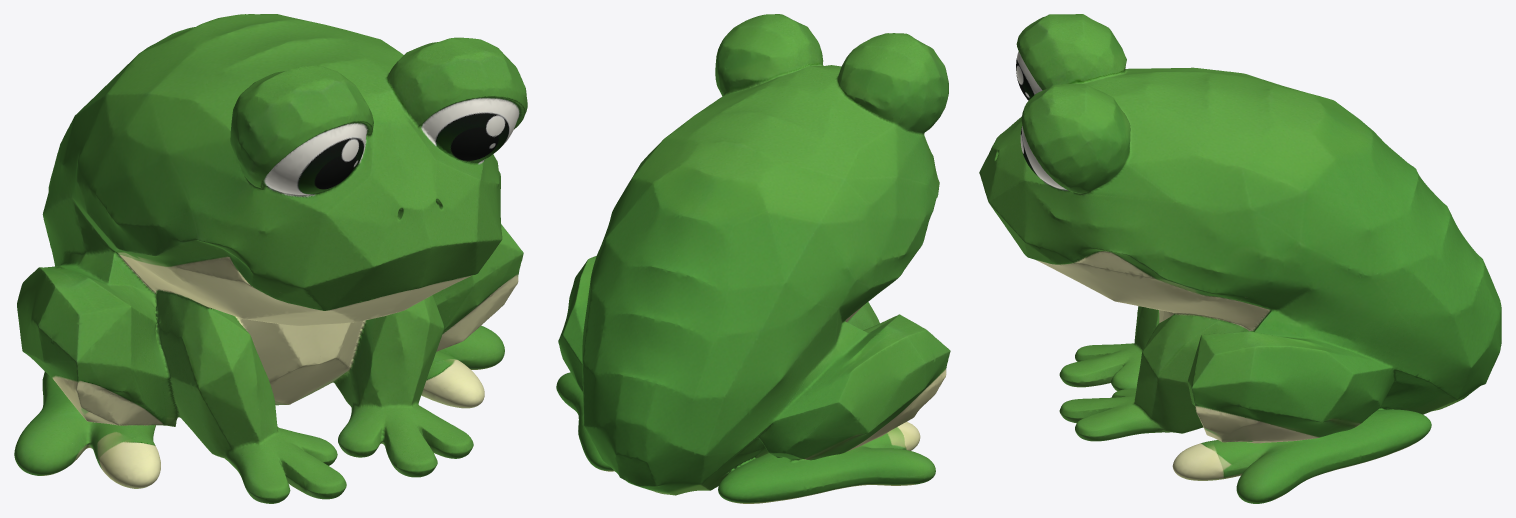
The model's file is meshy-froggy.glb.
3 views of the same model, side by side, from view 1: azimuth 30°, elevation 25°; view 2: azimuth 150°, elevation 25°; view 3: azimuth 270°, elevation 25° (orthographic). The views are drawn at different scales.
Bounding box in the file's own units: 1.65 × 1.46 × 1.9.
Materials: 1 (1 with a texture image).
